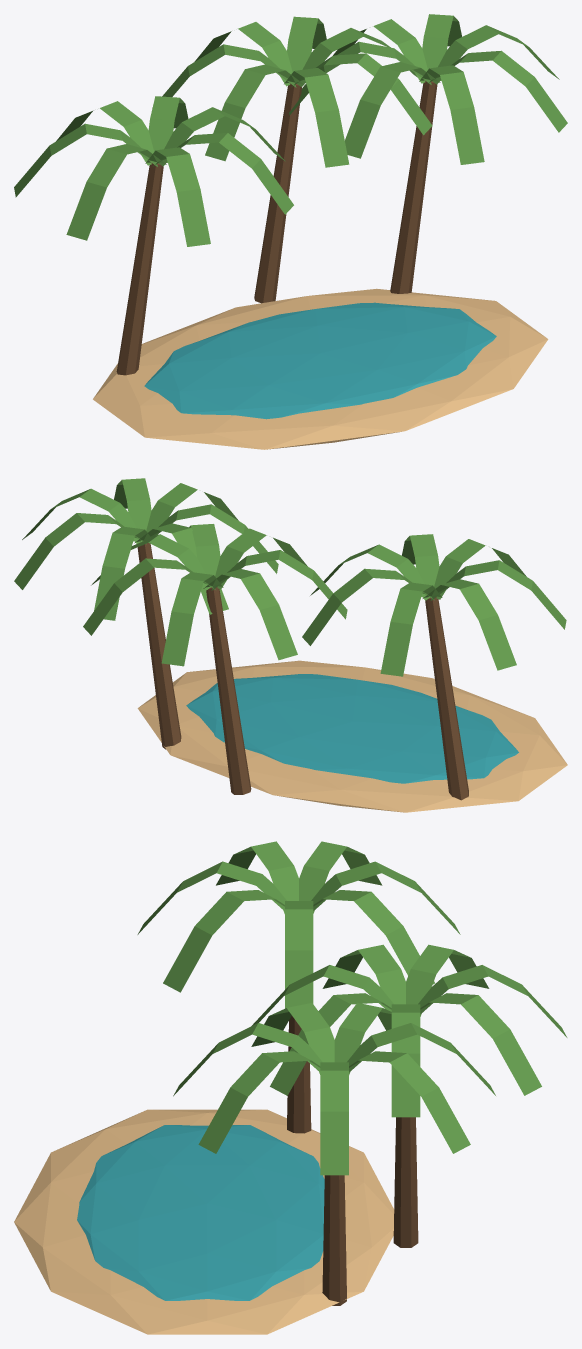
File: FEATURE_OASIS_v02.fbx
3 views of the same model, one above another, from view 1: azimuth 30°, elevation 25°; view 2: azimuth 150°, elevation 25°; view 3: azimuth 270°, elevation 25° (orthographic). The views are drawn at different scales.
Visible parts, largest first — view 1: Spring.002, Sand_rim.002, Palm_trunk.006, Palm_trunk.007, Palm_trunk.008, Palm_frond.054, Palm_frond.061, Palm_frond.047, Palm_frond.046, Palm_frond.053, Palm_frond.060, Palm_frond.055 (+14 smaller); view 2: Spring.002, Sand_rim.002, Palm_trunk.008, Palm_trunk.006, Palm_trunk.007, Palm_frond.044, Palm_frond.058, Palm_frond.045, Palm_frond.059, Palm_frond.051, Palm_frond.043, Palm_frond.057 (+14 smaller); view 3: Spring.002, Sand_rim.002, Palm_frond.049, Palm_trunk.008, Palm_trunk.007, Palm_frond.042, Palm_frond.050, Palm_frond.055, Palm_frond.057, Palm_frond.048, Palm_frond.056, Palm_frond.043 (+14 smaller).
Part boxes in pixels (<box>): Spring.002: <box>144,302,496,419</box>; Sand_rim.002: <box>93,288,548,449</box>; Palm_trunk.006: <box>116,162,163,375</box>; Palm_trunk.007: <box>390,80,437,293</box>; Palm_trunk.008: <box>254,83,301,303</box>; Palm_frond.054: <box>419,65,484,164</box>; Palm_frond.061: <box>284,68,349,167</box>; Palm_frond.047: <box>145,147,210,246</box>; Palm_frond.046: <box>66,144,166,240</box>; Palm_frond.053: <box>345,62,440,158</box>; Palm_frond.060: <box>205,64,304,161</box>; Palm_frond.055: <box>426,50,567,132</box>; Spring.002: <box>186,674,518,783</box>; Sand_rim.002: <box>137,660,567,812</box>; Palm_trunk.008: <box>206,586,251,794</box>; Palm_trunk.006: <box>425,597,468,800</box>; Palm_trunk.007: <box>137,543,181,749</box>; Palm_frond.044: <box>380,582,442,676</box>; Palm_frond.058: <box>161,572,223,666</box>; Palm_frond.045: <box>422,579,516,670</box>; Palm_frond.059: <box>203,569,297,660</box>; Palm_frond.051: <box>94,526,151,620</box>; Palm_frond.043: <box>302,568,434,645</box>; Palm_frond.057: <box>83,558,215,635</box>; Spring.002: <box>77,1125,324,1300</box>; Sand_rim.002: <box>14,1109,394,1334</box>; Palm_frond.049: <box>320,1062,348,1175</box>; Palm_trunk.008: <box>393,1117,418,1247</box>; Palm_trunk.007: <box>322,1175,346,1305</box>; Palm_frond.042: <box>285,901,313,1008</box>; Palm_frond.050: <box>349,1051,470,1153</box>; Palm_frond.055: <box>198,1051,320,1153</box>; Palm_frond.057: <box>420,993,541,1095</box>; Palm_frond.048: <box>163,890,284,992</box>; Palm_frond.056: <box>391,1004,420,1117</box>; Palm_frond.043: <box>313,890,434,984</box>.
Bounding box in the file's own units: 137 × 63.8 × 109.
